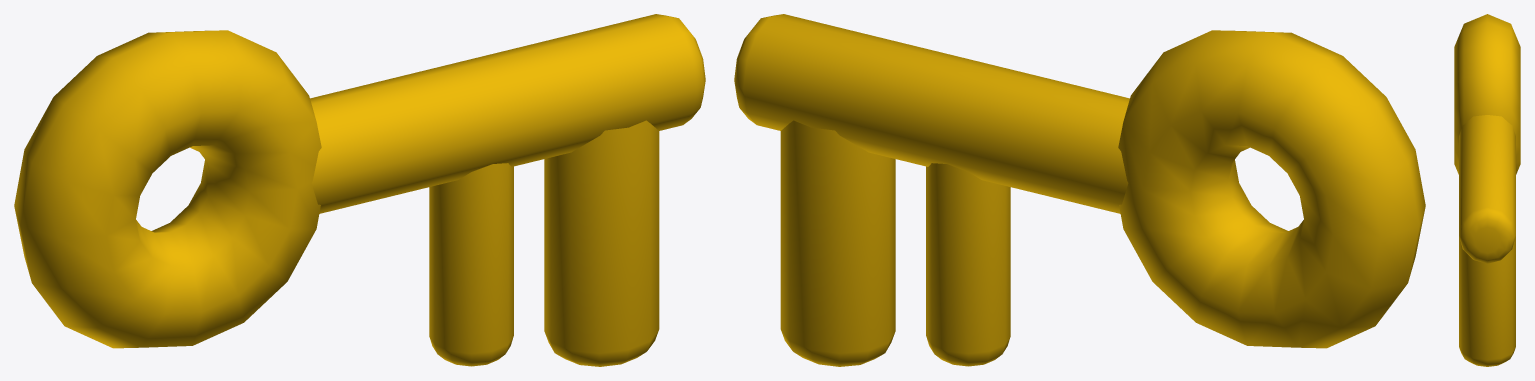
File: KEY .fbx
3 views of the same model, side by side, from view 1: azimuth 30°, elevation 25°; view 2: azimuth 150°, elevation 25°; view 3: azimuth 270°, elevation 25° (orthographic). The views are drawn at different scales.
Visible parts, largest first — view 1: Key; view 2: Key; view 3: Key.
Part boxes in pixels (left/top/right/bottom): Key: left=14, top=14, right=705, bottom=366; Key: left=734, top=14, right=1425, bottom=366; Key: left=1454, top=14, right=1520, bottom=366.
Bounding box in the file's own units: 196 × 119 × 32.
